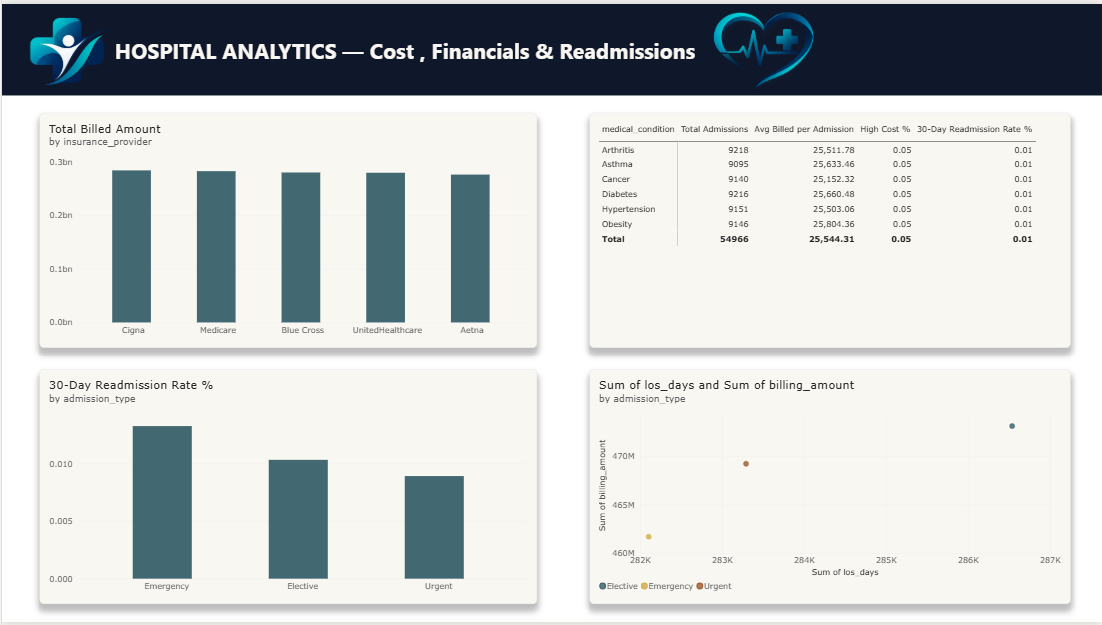

The dashboard page shown, as its layout file describes it:
{"tool":"powerbi","page":{"name":"Page 3","canvas":[1920,1080],"ordinal":2},"visuals":[{"type":"shape","box":[0,0,1920.4,159.7],"z":0},{"type":"clusteredColumnChart","fields":{"Category":["Fact_Admissions.insurance_provider"],"Y":["_Measures.Total Billed Amount"]},"box":[65.5,189.9,868.6,410.3],"z":1000},{"type":"scatterChart","fields":{"Series":["Fact_Admissions.admission_type"],"X":["Sum(Fact_Admissions.los_days)"],"Y":["Sum(Fact_Admissions.billing_amount)"]},"box":[1025.7,637.2,840.2,410.3],"z":2000},{"type":"columnChart","fields":{"Category":["Fact_Admissions.admission_type"],"Y":["_Measures.30-Day Readmission Rate %"]},"box":[65.5,637.2,868.6,410.3],"z":3000},{"type":"pivotTable","fields":{"Rows":["Dim_Condition.medical_condition"],"Values":["_Measures.Total Admissions","_Measures.Avg Billed per Admission","_Measures.High Cost %","_Measures.30-Day Readmission Rate %"]},"box":[1025.7,189.9,840.2,410.3],"z":4000},{"type":"image","box":[0,10.9,227,148.4],"z":4001},{"type":"image","box":[1171.9,0,299,159.3],"z":4002}]}

Visuals, with their boxes in screenshot pixels (x1, y1, x2, y2), scaled from the page's 1920x1080 canvas onto the 1102x625 screenshot:
shape: l=0, t=0, r=1101, b=92
clusteredColumnChart - Fact_Admissions.insurance_provider x _Measures.Total Billed Amount: l=38, t=110, r=536, b=347
scatterChart - Fact_Admissions.admission_type x Sum(Fact_Admissions.los_days): l=589, t=369, r=1071, b=606
columnChart - Fact_Admissions.admission_type x _Measures.30-Day Readmission Rate %: l=38, t=369, r=536, b=606
pivotTable - Dim_Condition.medical_condition x _Measures.Total Admissions: l=589, t=110, r=1071, b=347
image: l=0, t=6, r=130, b=92
image: l=673, t=0, r=844, b=92
